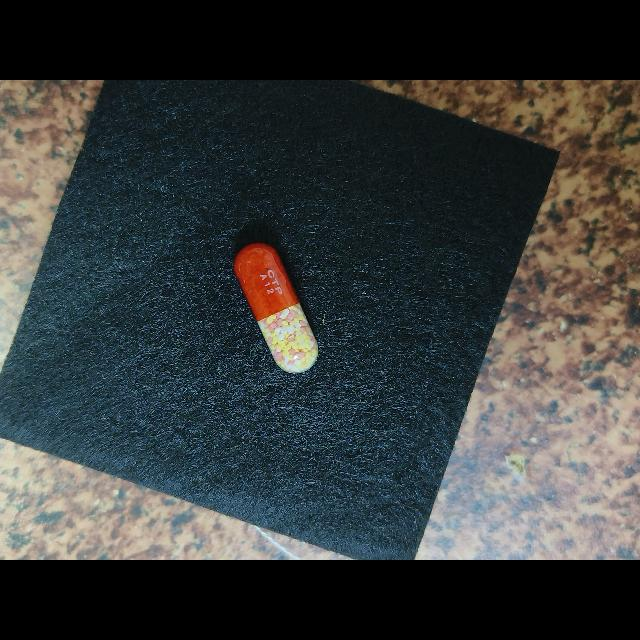Intact Capsule: (233, 243, 318, 373)
